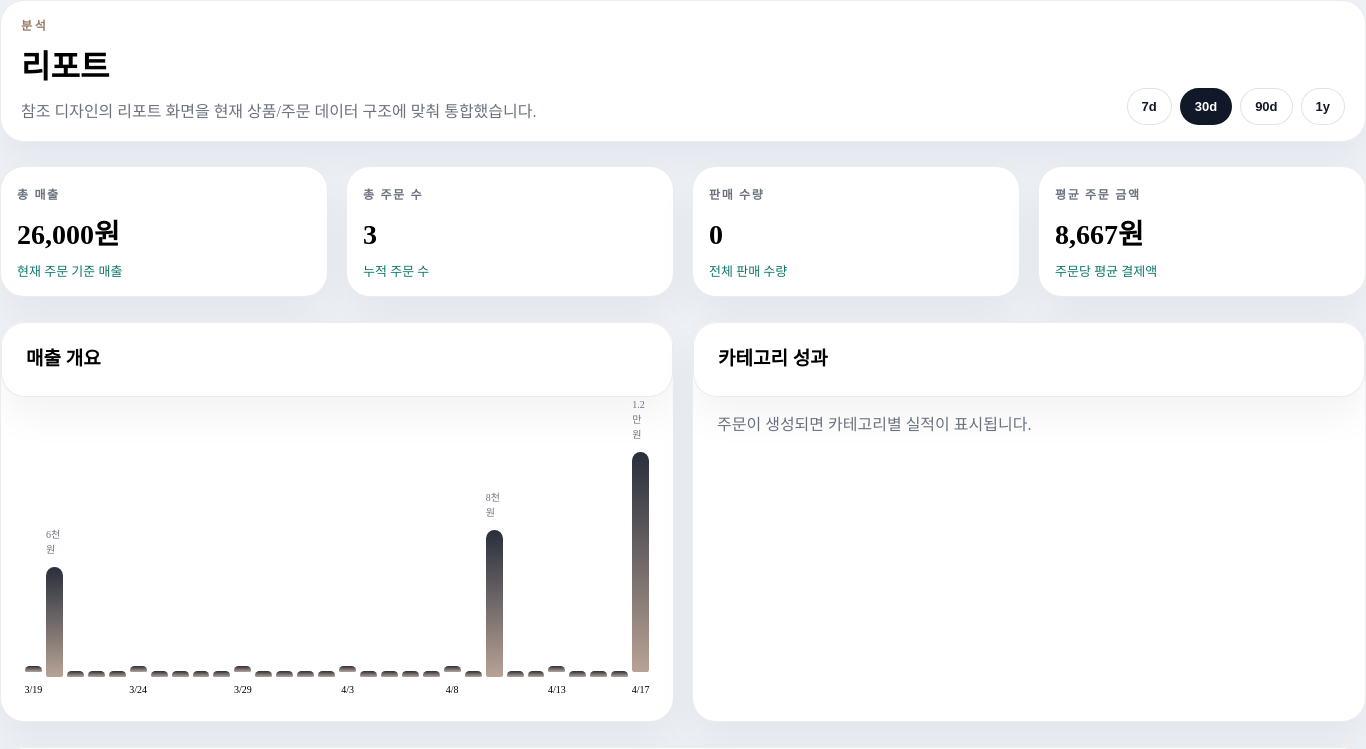
Test case: AdminReportsPage › changes the number of revenue buckets based on the selected date range
The width and height of the screenshot is (1366, 749).
Click the button "7d": (1149, 106) [1126,88,1172,125]
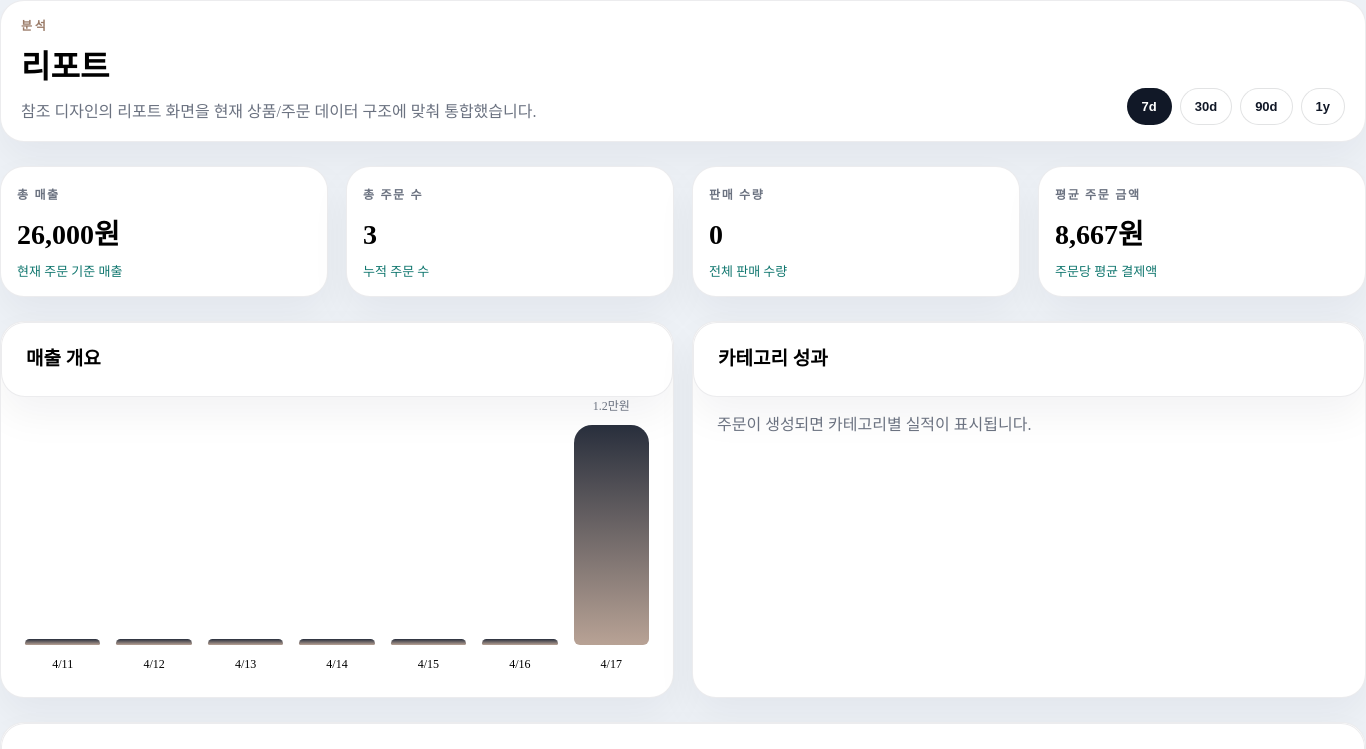
Check: the number of elements with test id "revenue-bar-group" is 7
Click the button "90d": (1266, 106) [1240,88,1292,125]
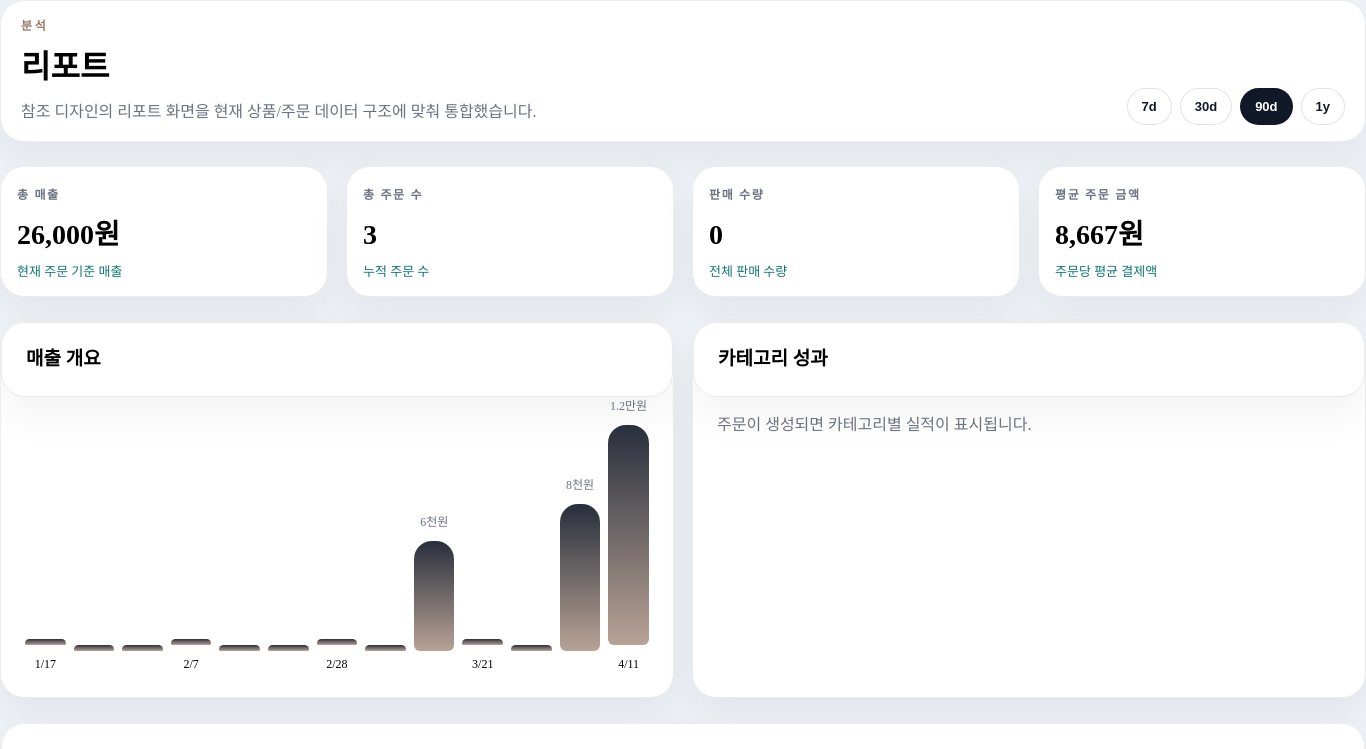
Check: the number of elements with test id "revenue-bar-group" is 13
Click the button "1y": (1323, 106) [1300,88,1345,125]
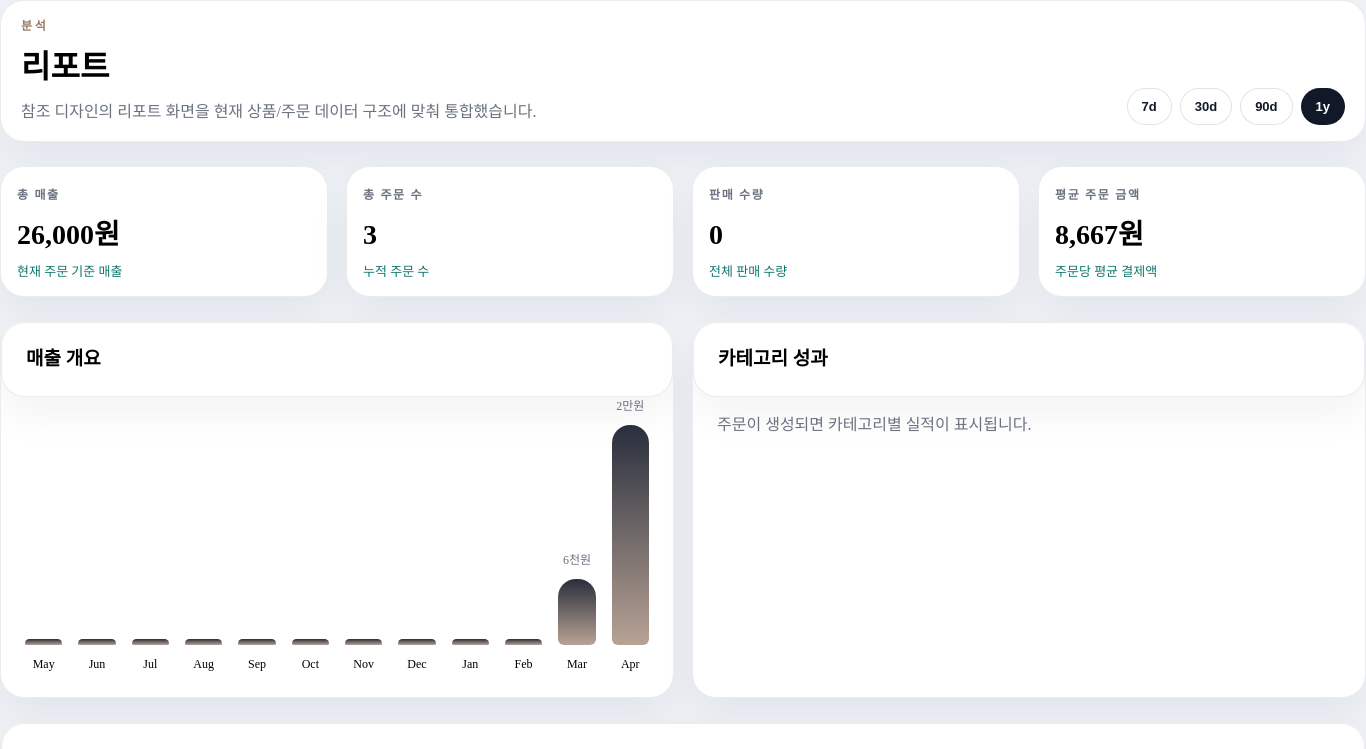
Check: the number of elements with test id "revenue-bar-group" is 12
